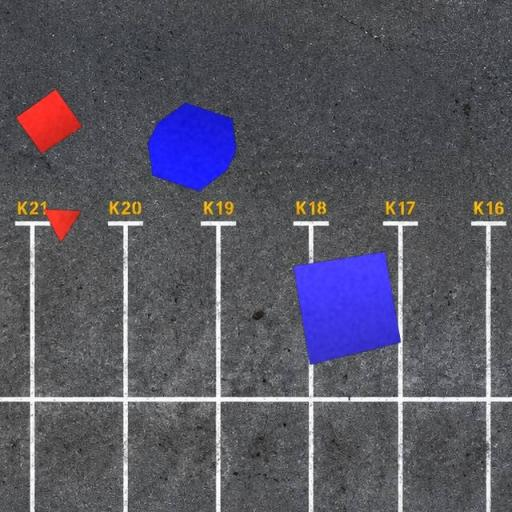BLUE_SQUARE: (292, 250, 402, 366)
RED_SQUARE: (15, 88, 83, 154)
